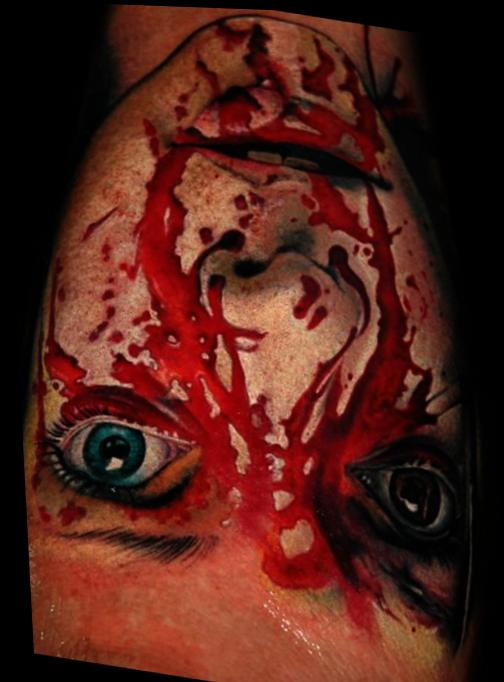Fire: (26, 12, 447, 628)
